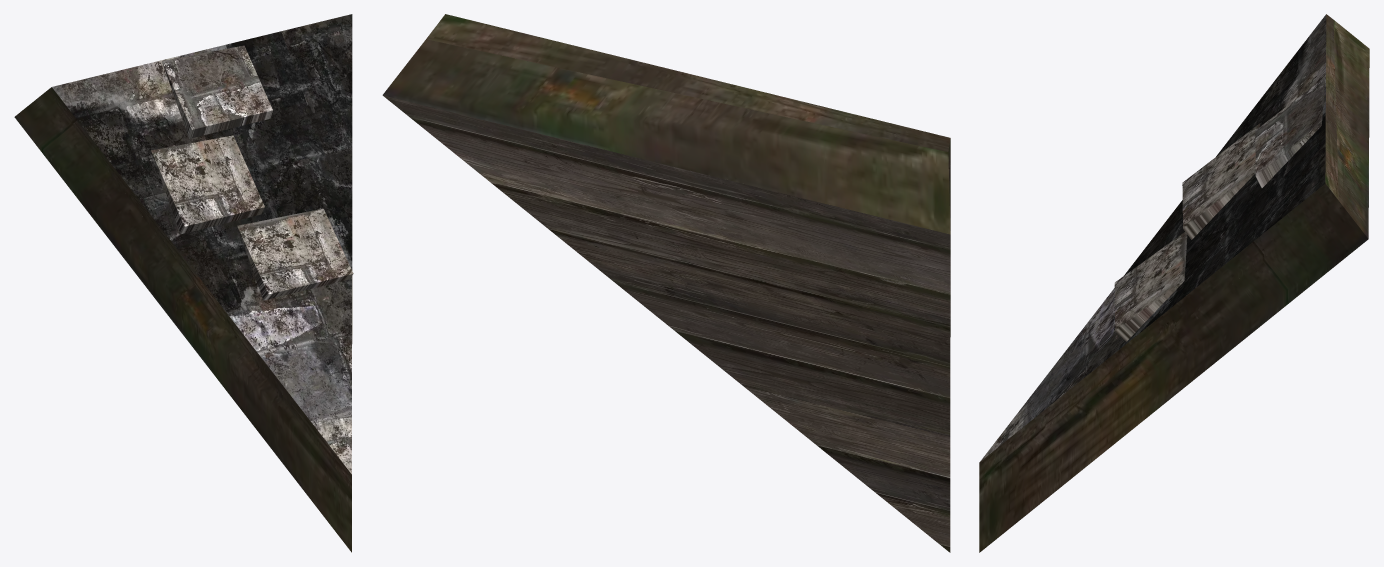
The picture shows the model from 3 angles, left to right: view 1: azimuth 30°, elevation 25°; view 2: azimuth 150°, elevation 25°; view 3: azimuth 270°, elevation 25°; orthographic projection. The views are drawn at different scales.
Visible parts, largest first — view 1: SM_BB_T3_Roof_Triangle_Med_LOD0; view 2: SM_BB_T3_Roof_Triangle_Med_LOD0; view 3: SM_BB_T3_Roof_Triangle_Med_LOD0.
Boxes of the visible parts, x1=… form: SM_BB_T3_Roof_Triangle_Med_LOD0: x1=14, y1=14, x2=353, y2=552; SM_BB_T3_Roof_Triangle_Med_LOD0: x1=382, y1=14, x2=950, y2=552; SM_BB_T3_Roof_Triangle_Med_LOD0: x1=979, y1=14, x2=1369, y2=552.
Size of the model in its own units: 1.69 by 1.88 by 1.47.
3 materials, 3 textured.
